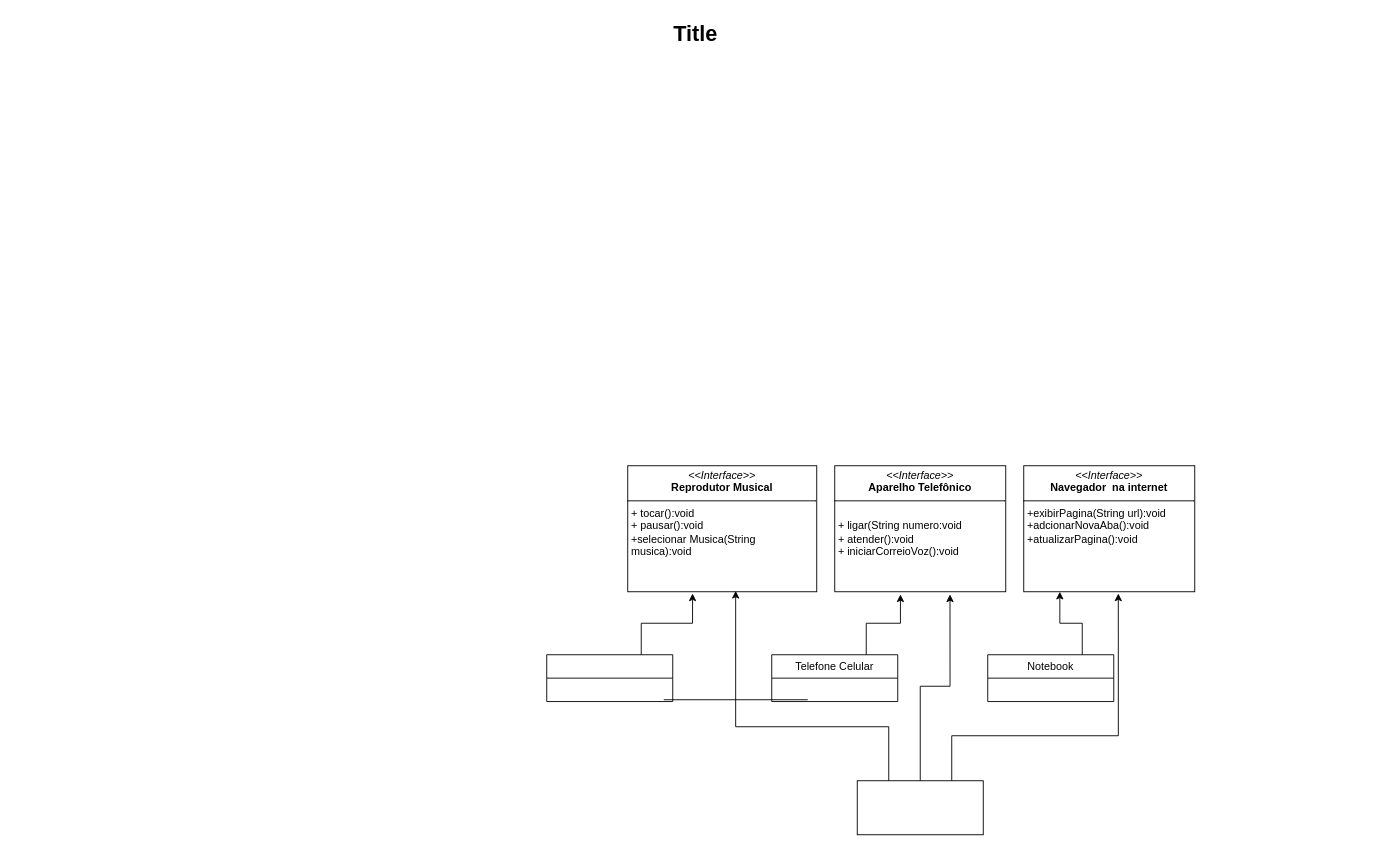
This 1390x851 diagram has some shape labels left out. Here are the shapes that lost their labels. From the top down, the centre of each, then its label:
[609,678]: Ipod
[919,807]: Iphone
